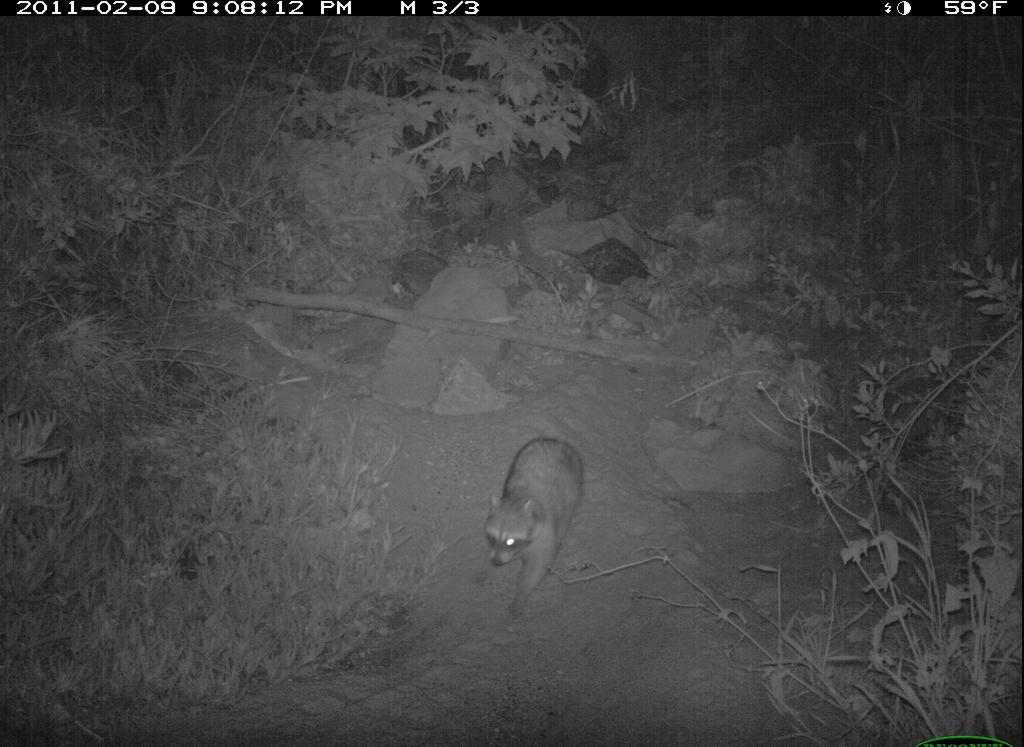raccoon: (459, 405, 594, 625)
